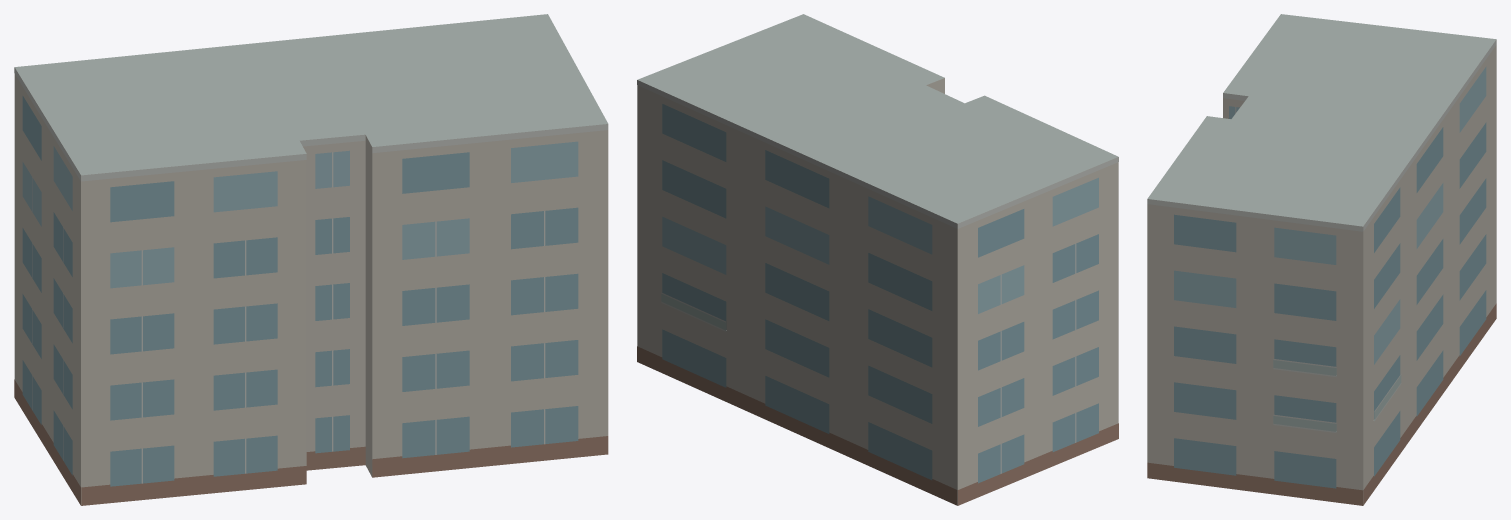
Rendered from survey-upis-32877717.glb.
3 views of the same model, side by side, from view 1: azimuth 30°, elevation 25°; view 2: azimuth 150°, elevation 25°; view 3: azimuth 270°, elevation 25° (orthographic). The views are drawn at different scales.
Parts seen in each view (by area): view 1: survey-upis-32877717.tmp; view 2: survey-upis-32877717.tmp; view 3: survey-upis-32877717.tmp.
Boxes of the visible parts, x1=… form: survey-upis-32877717.tmp: x1=14, y1=14, x2=608, y2=505; survey-upis-32877717.tmp: x1=637, y1=14, x2=1118, y2=505; survey-upis-32877717.tmp: x1=1147, y1=14, x2=1496, y2=505.
Size of the model in its own units: 21.56 by 13.2 by 14.97.
